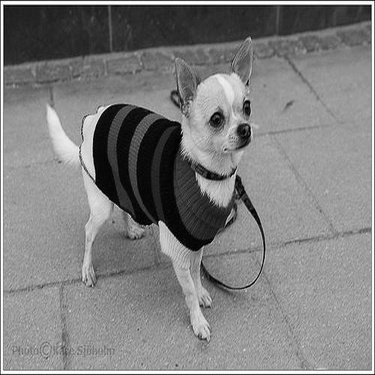dog: (26, 26, 263, 347)
